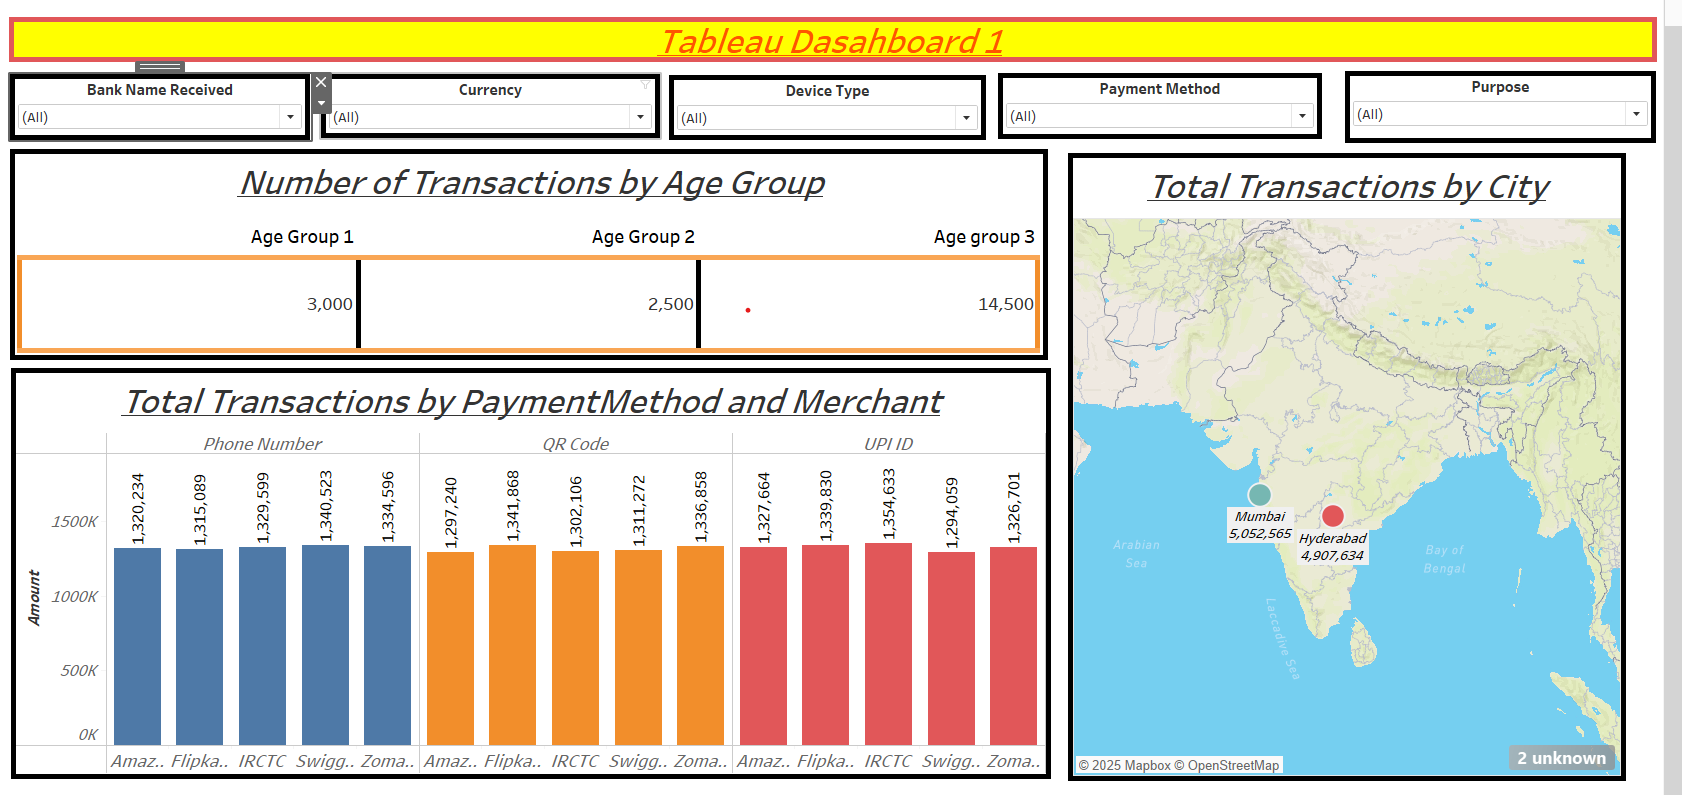

The page's visual inventory and layout, read from the dashboard file:
{"tool":"tableau","page":{"name":"Dashboard 1","canvas":[1000,1000],"units":"permille","ordinal":0},"visuals":[{"type":"text","box":[13.2,27.5,983.4,56.2]},{"type":"filter","title":"Column Chart","param":"[federated.0sjmi1y1vdmpej1fw1jif047cxce].[none:Purpose:nk]","box":[810.4,94.9,185.5,89.9]},{"type":"filter","title":"Column Chart","param":"[federated.0sjmi1y1vdmpej1fw1jif047cxce].[none:PaymentMethod:nk]","box":[603.5,97.4,193.1,82.4]},{"type":"filter","title":"Column Chart","param":"[federated.0sjmi1y1vdmpej1fw1jif047cxce].[none:BankNameReceived:nk]","box":[13.8,98.6,179.2,82.4]},{"type":"filter","title":"Column Chart","param":"[federated.0sjmi1y1vdmpej1fw1jif047cxce].[none:Currency:nk]","box":[199.3,98.6,202.1,79.9]},{"type":"filter","title":"Column Chart","param":"[federated.0sjmi1y1vdmpej1fw1jif047cxce].[none:DeviceType:nk]","box":[406.9,99.9,188.9,81.2]},{"type":"worksheet","title":"Card Visual","mark":"Automatic","cols":["Calculation_1194579837490331648"],"box":[13.8,192.3,619.4,263.4]},{"type":"worksheet","title":"Map Visual","mark":"Automatic","box":[645,197.2,332.9,784]},{"type":"worksheet","title":"Column Chart","mark":"Automatic","rows":["Amount"],"cols":["PaymentMethod","MerchantName"],"box":[14.5,465.7,620.8,513.1]}]}

Visuals, with their boxes on the dashboard's canvas, which has no fixed pixel size, in thousandths of its width and height (x1, y1, x2, y2). These are canvas units, not pixel positions in the 1682x795 screenshot, which may show the page scaled, cropped or inside an application window:
text: 13, 28, 997, 84
"Column Chart" filter: 810, 95, 996, 185
"Column Chart" filter: 604, 97, 797, 180
"Column Chart" filter: 14, 99, 193, 181
"Column Chart" filter: 199, 99, 401, 178
"Column Chart" filter: 407, 100, 596, 181
"Card Visual" worksheet: 14, 192, 633, 456
"Map Visual" worksheet: 645, 197, 978, 981
"Column Chart" worksheet: 14, 466, 635, 979
